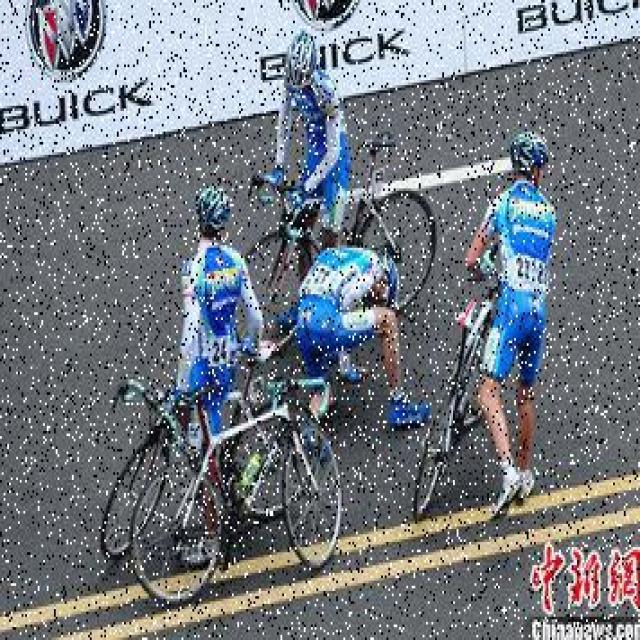fall: (302, 243, 410, 452)
